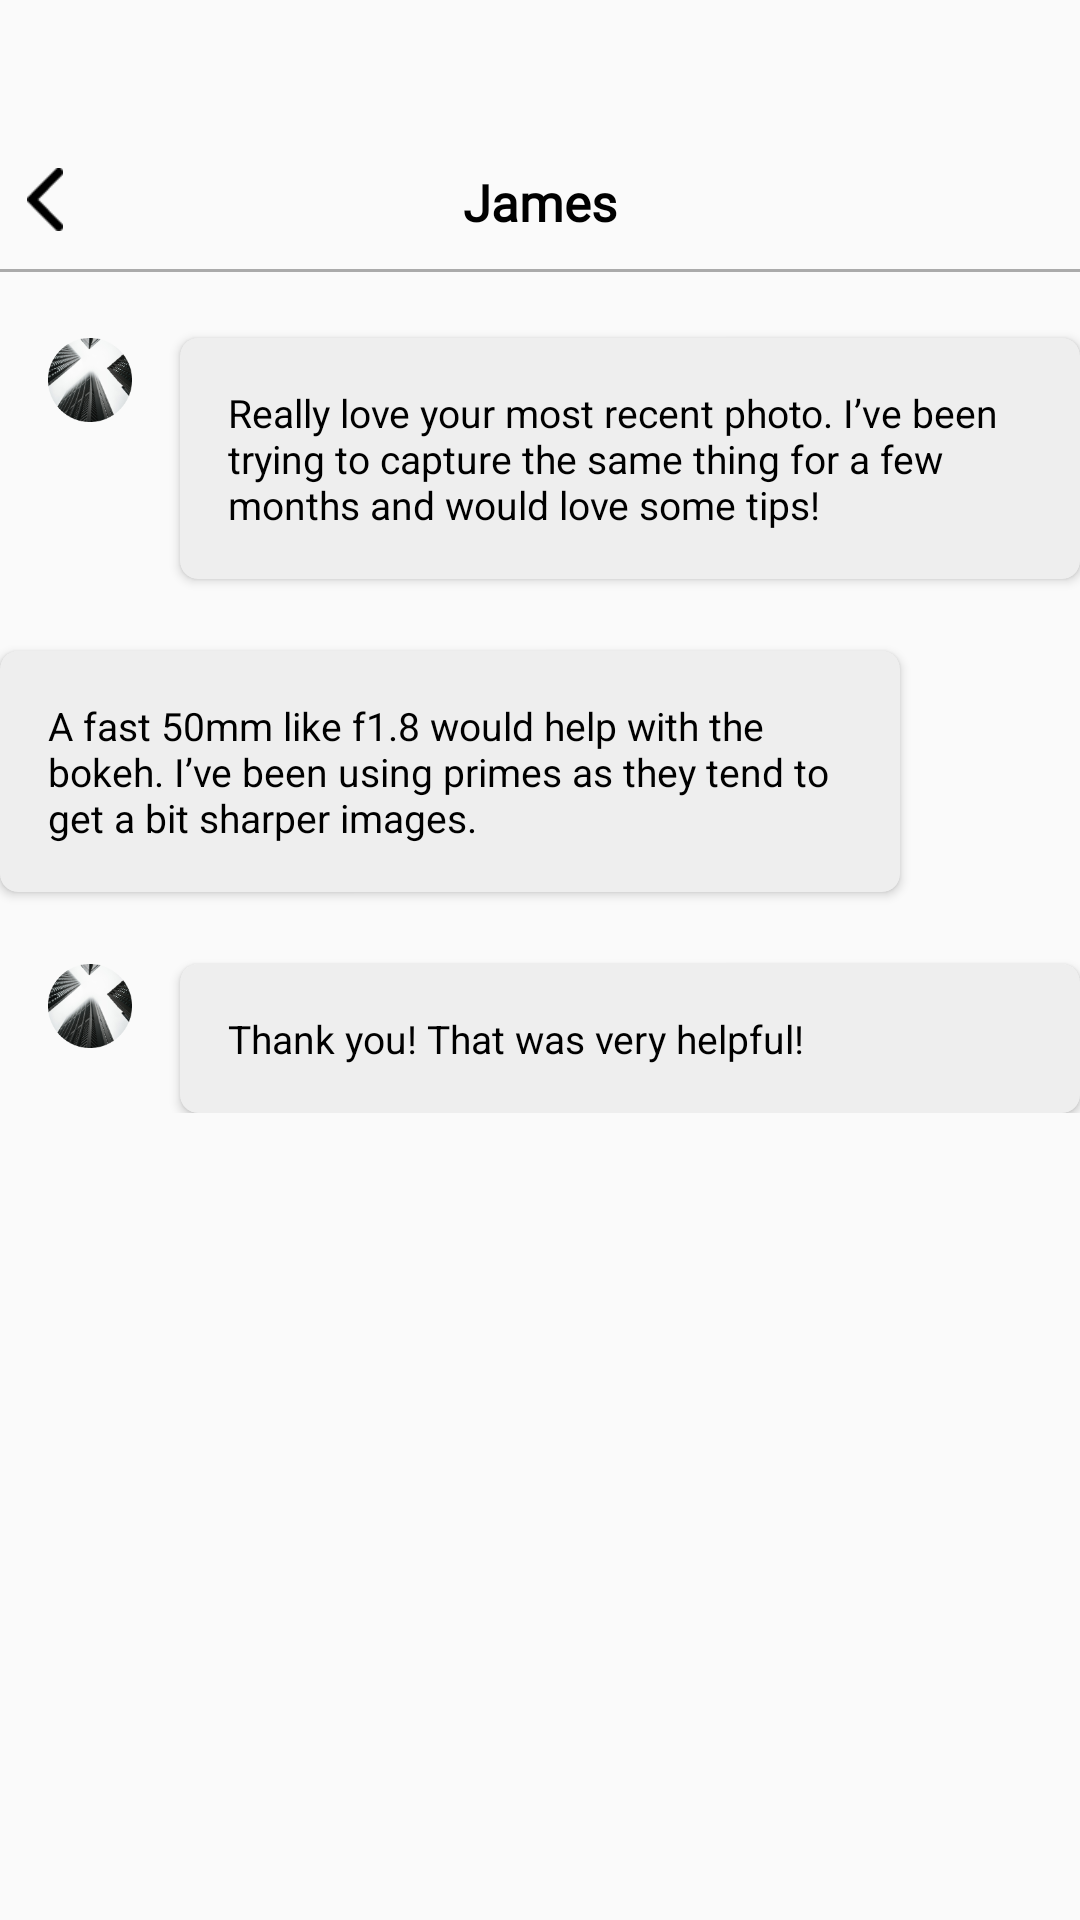

Screen size 1080x1920. Icon name, then its box in pixels as (x1, y1, x2, y2):
back arrcow: (27, 168, 63, 231)
